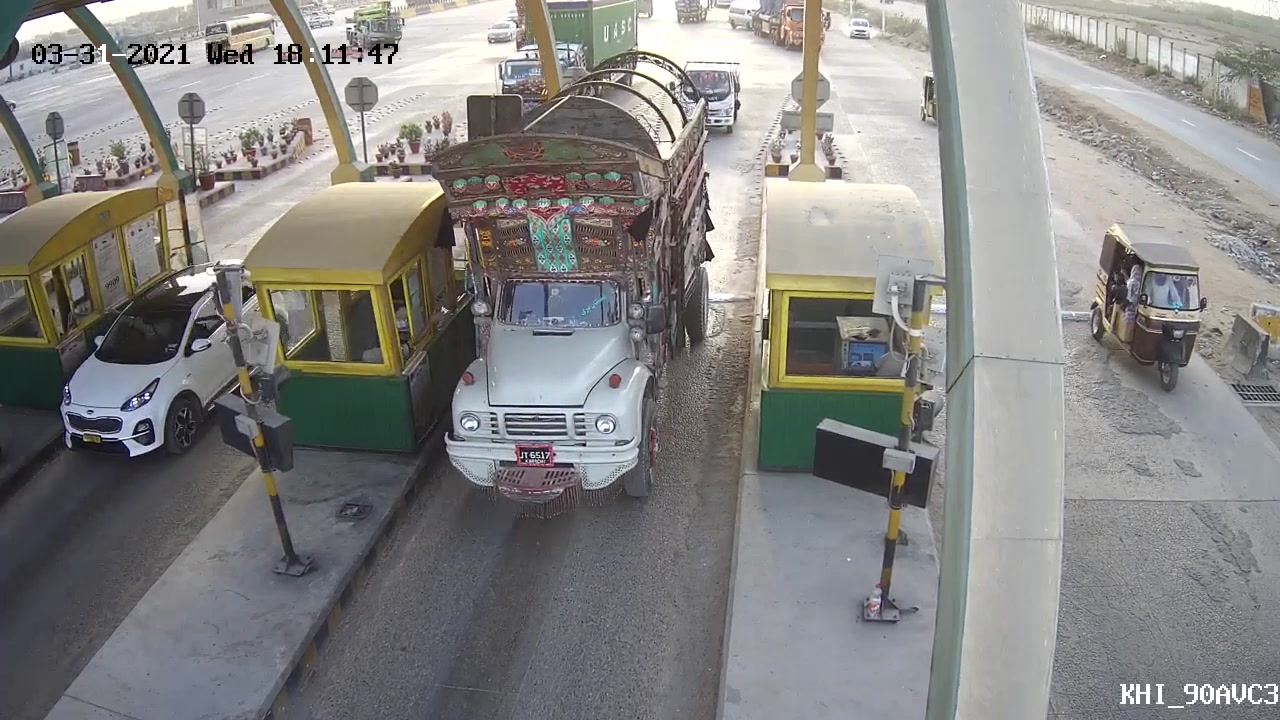F5: (416, 94, 723, 530)
